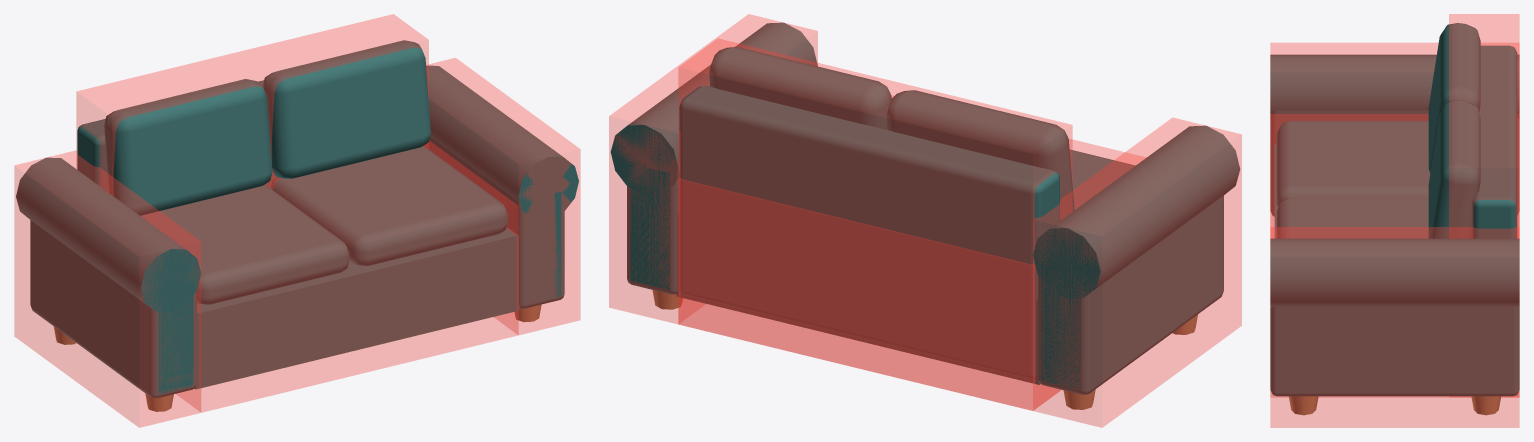
File: SofaS01.glb
3 renders of one model, left to right at view 1: azimuth 30°, elevation 25°; view 2: azimuth 150°, elevation 25°; view 3: azimuth 270°, elevation 25°, orthographic. The views are drawn at different scales.
Parts seen in each view (by area): view 1: Body_Fabric, Col_Seat, Col_ArmLeft, Col_ArmRight, Col_Back, Body_Wood; view 2: Body_Fabric, Col_Back, Col_Seat, Col_ArmLeft, Col_ArmRight, Body_Wood; view 3: Body_Fabric, Col_ArmRight, Col_Seat, Col_Back, Col_ArmLeft, Body_Wood.
Boxes of the visible parts, x1,y1,x2,y2 form: Body_Fabric: (16,40,578,398); Col_Seat: (141,141,518,412); Col_ArmLeft: (14,150,200,427); Col_ArmRight: (426,58,580,334); Col_Back: (76,14,428,195); Body_Wood: (54,305,541,411); Body_Fabric: (610,22,1240,394); Col_Back: (678,38,1072,410); Col_Seat: (678,96,1145,410); Col_ArmLeft: (1033,117,1241,427); Col_ArmRight: (609,14,817,323); Body_Wood: (652,290,1197,409); Body_Fabric: (1270,23,1519,396); Col_ArmRight: (1270,227,1519,427); Col_Seat: (1270,114,1519,397); Col_Back: (1449,14,1519,396); Col_ArmLeft: (1270,43,1519,226); Body_Wood: (1289,396,1500,415).
Bounding box in the file's own units: 6.12 × 3.05 × 3.
